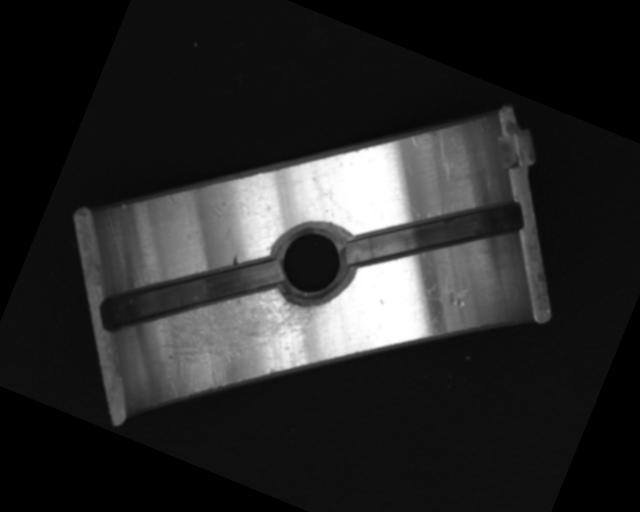bruise: (443, 282, 472, 311), (229, 251, 244, 269)
gap: (93, 205, 288, 383), (344, 151, 527, 317)
hole: (259, 207, 368, 316)
scratch: (141, 244, 333, 436)
